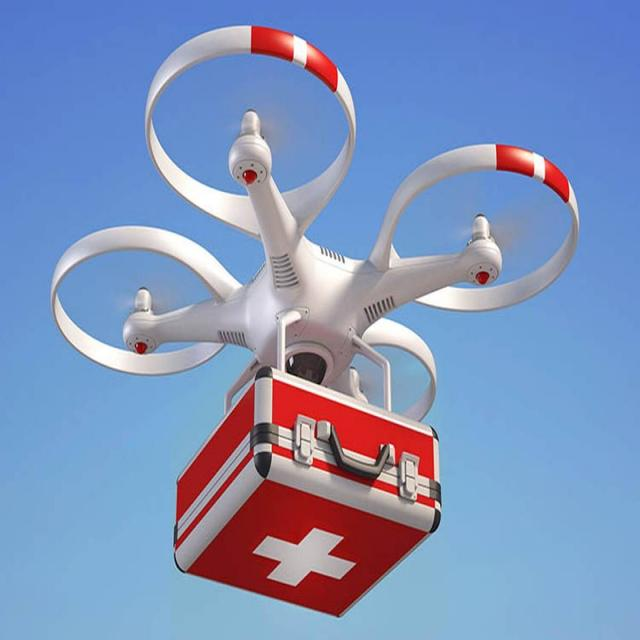drones: (45, 15, 592, 624)
